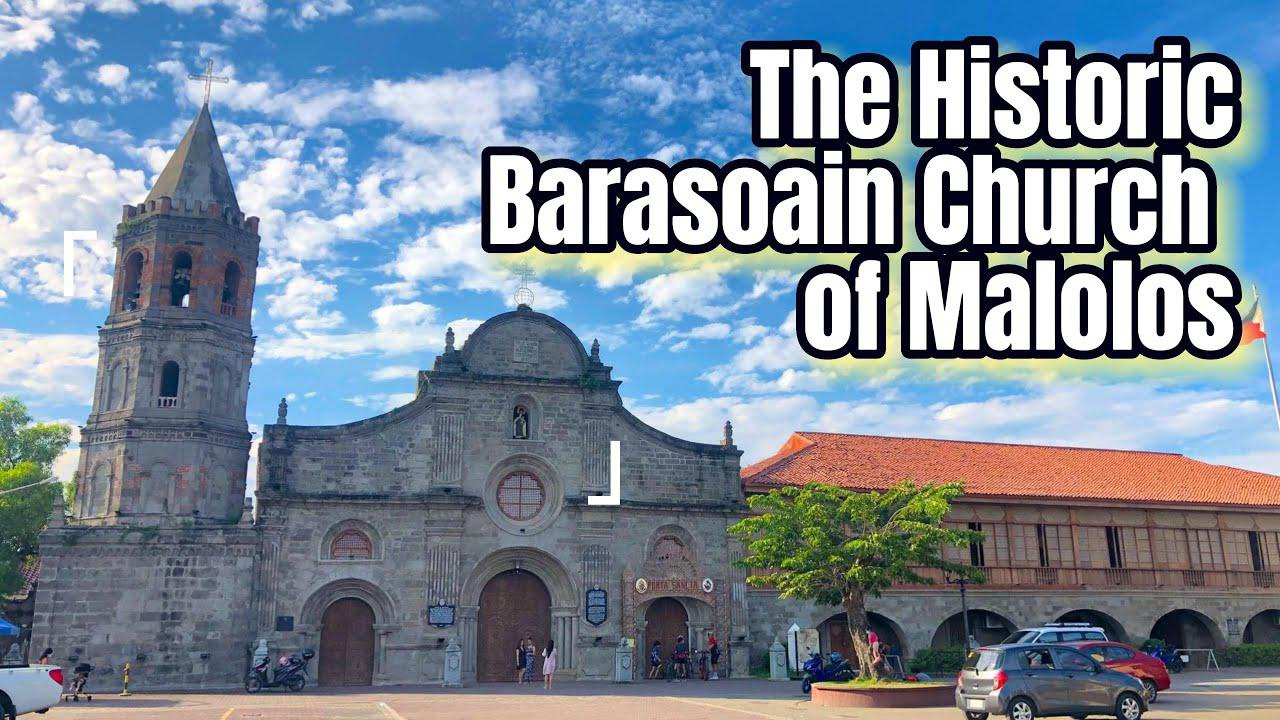barasoain_church_malolos_bulacan: (25, 54, 753, 682)
